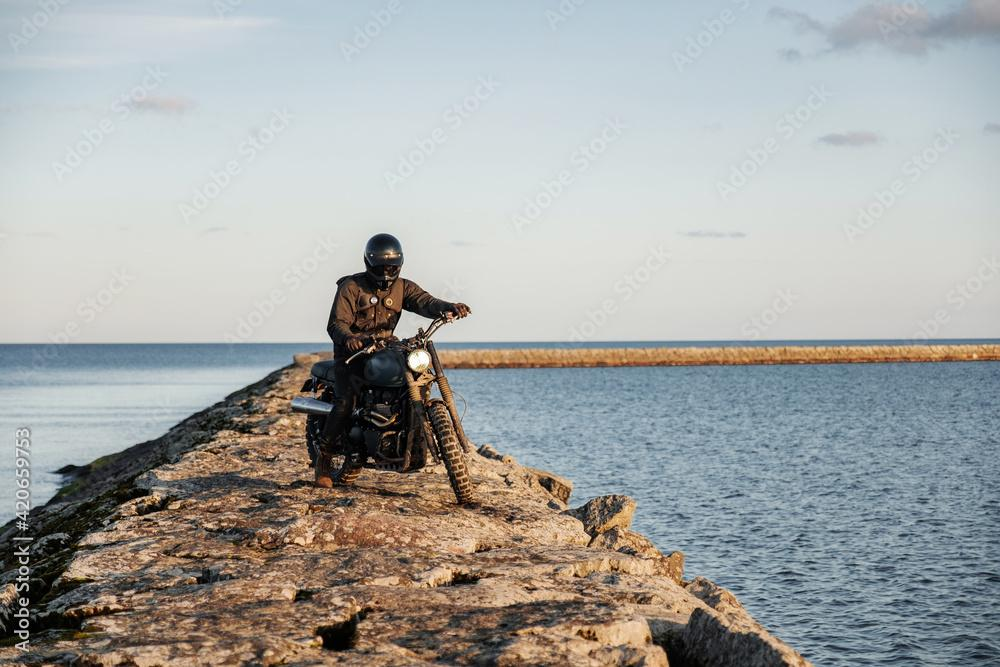helmet: (363, 232, 405, 291)
